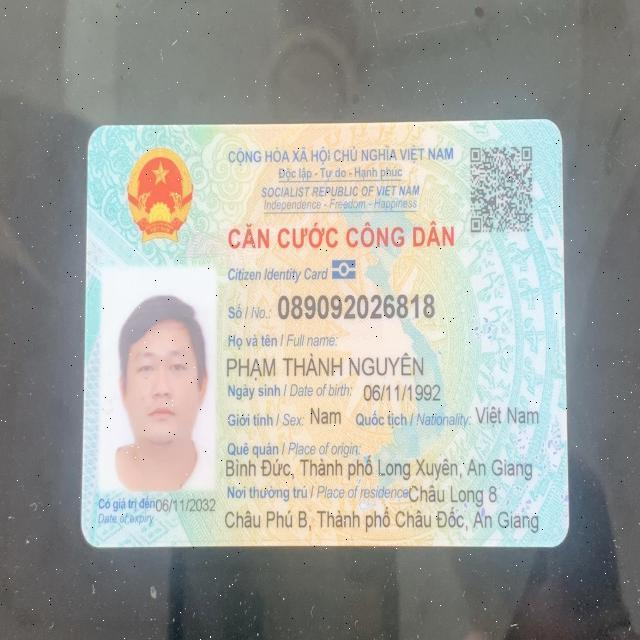current_place: (223, 504, 542, 533), (407, 480, 497, 508)
dob: (364, 377, 445, 405)
expire_date: (154, 497, 217, 515)
gender: (309, 404, 345, 428)
id: (277, 289, 434, 322)
name: (224, 350, 428, 380)
nationality: (478, 400, 538, 431)
origin_place: (222, 458, 535, 481)
